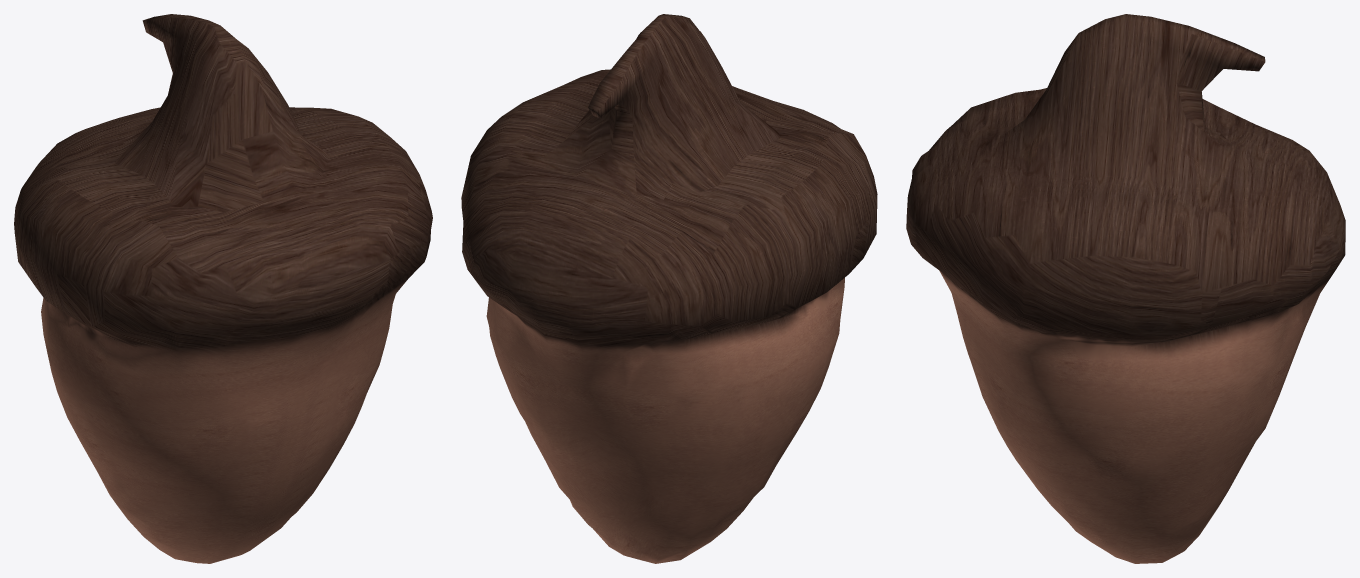
Rendered from Seed.fbx.
3 views of the same model, side by side, from view 1: azimuth 30°, elevation 25°; view 2: azimuth 150°, elevation 25°; view 3: azimuth 270°, elevation 25° (orthographic).
Parts seen in each view (by area): view 1: Icosphere; view 2: Icosphere; view 3: Icosphere.
Boxes of the visible parts, bbox=[...] form: Icosphere: bbox=[14, 14, 432, 563]; Icosphere: bbox=[461, 14, 877, 563]; Icosphere: bbox=[906, 14, 1345, 563].
Bounding box in the file's own units: 39.4 × 56.37 × 41.58.
